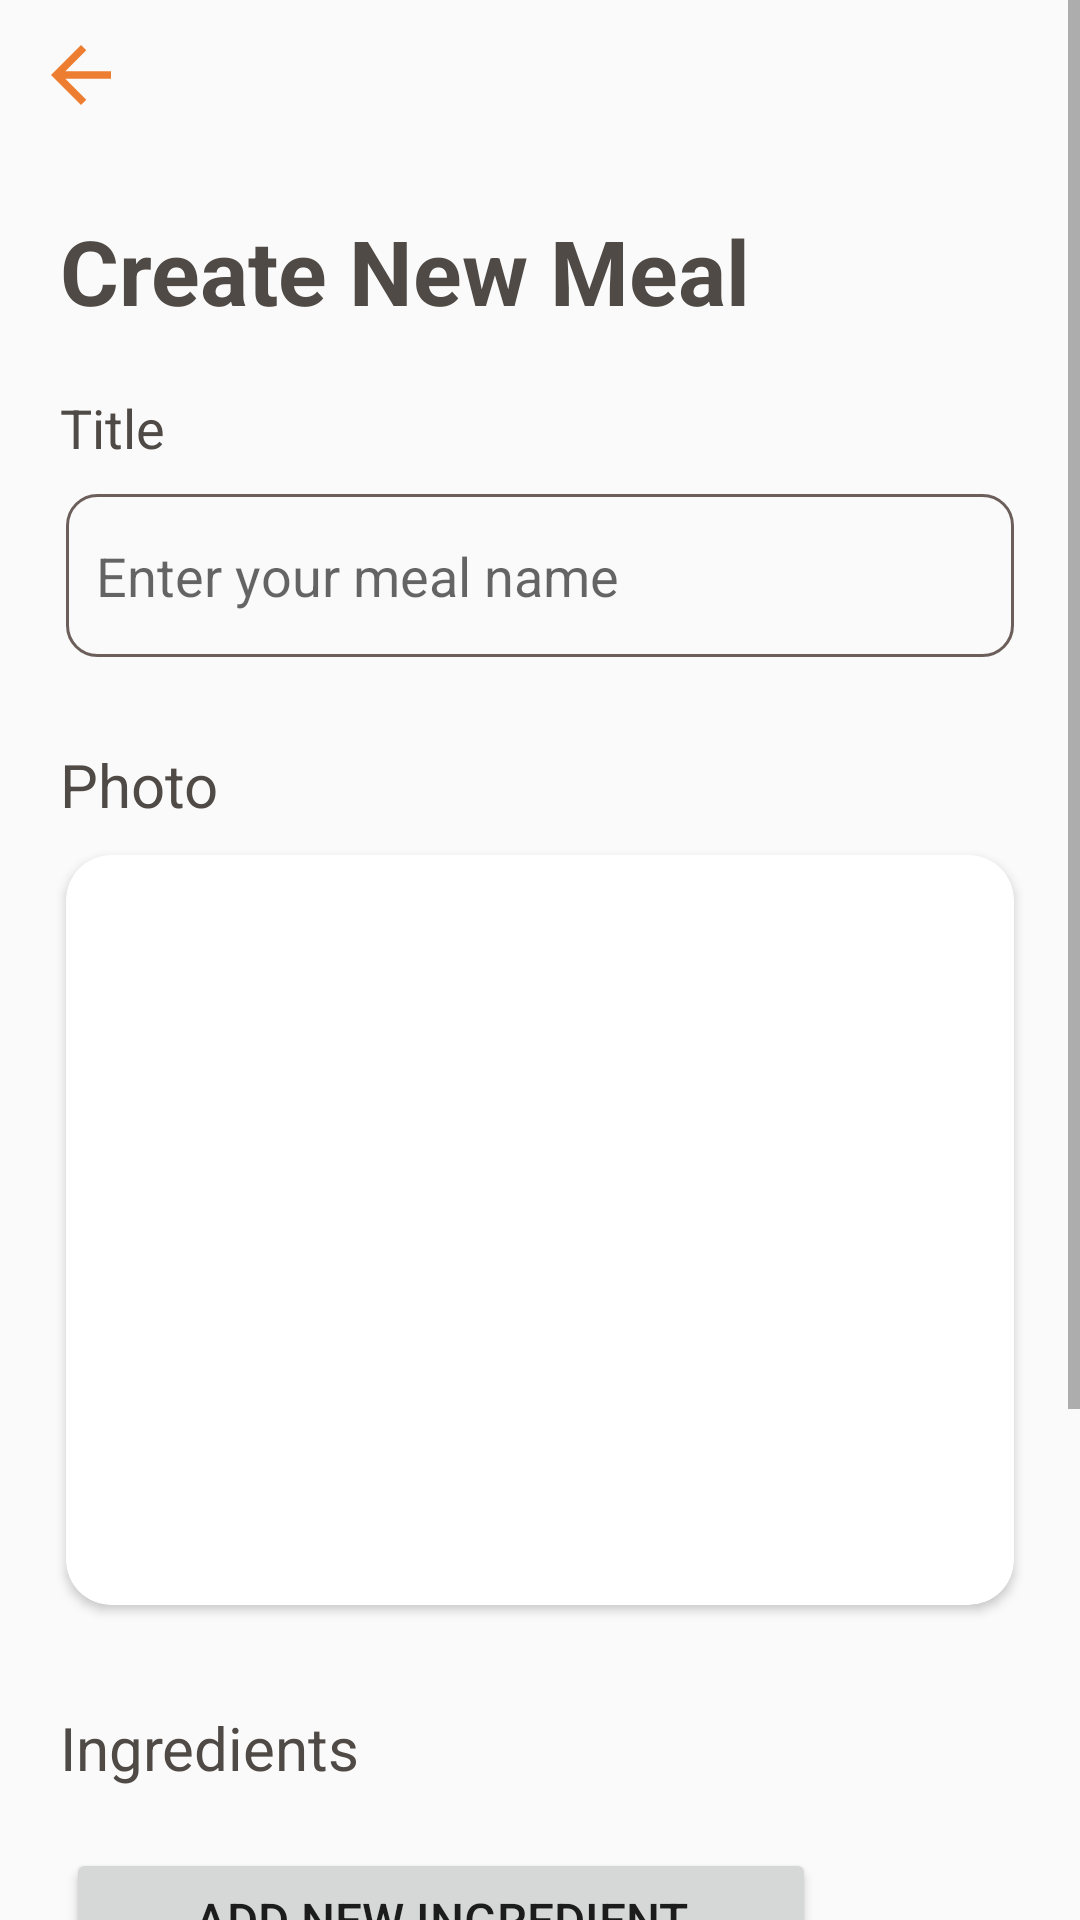

Icons on this 1080px×1920px Android screen, each with its box as (x1, y1, x2, y2):
arrow back: (51, 45, 111, 105)
